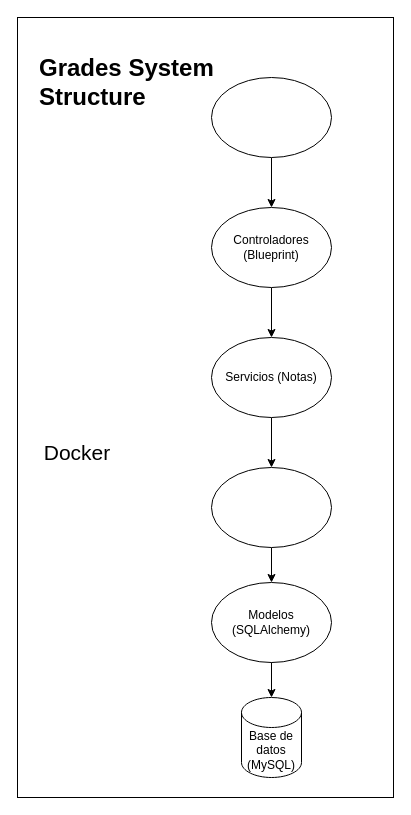
The diagram is 411 pixels wide and 815 high, and some of its shapes have lost their labels. Here are the shapes that lost their labels. From the top down, the centre of each, then its label:
[271,117]: Templates (HTML)
[271,507]: Repositorios (Manejo de datos)
